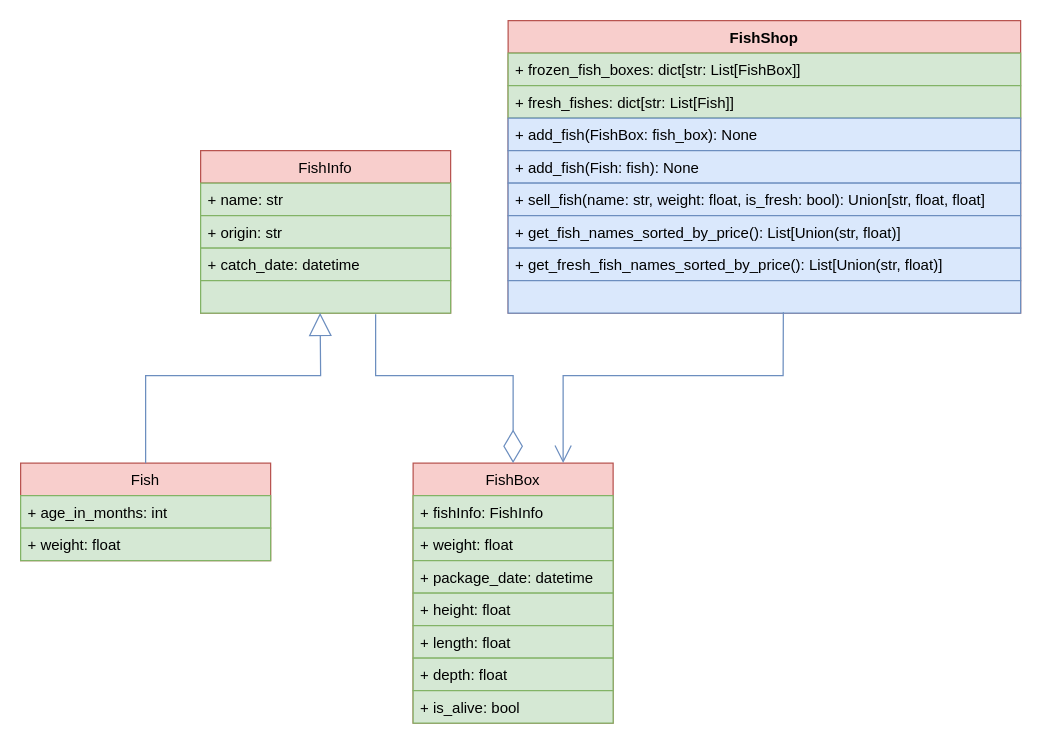
The diagram is 1041 pixels wide and 744 high, and some of its shapes have lost their labels. The centre of each missing label's shape, as x and y in pixels:
"+ due_date: datetime" goes at pixel 325 296.
"+ get_frozen_fish_names_sorted_by_price(): List[Union(str, float)]" goes at pixel 764 296.
